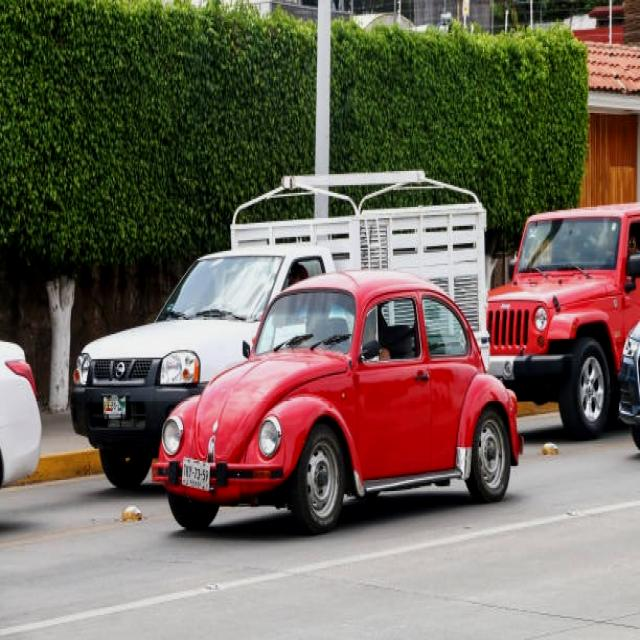car: (63, 249, 484, 473), (149, 273, 526, 515), (489, 217, 640, 425)
